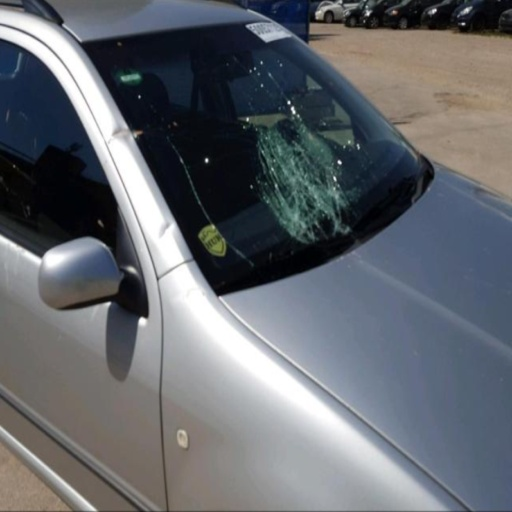dent: (105, 124, 130, 148), (158, 221, 172, 242)
scratch: (109, 131, 127, 145)
